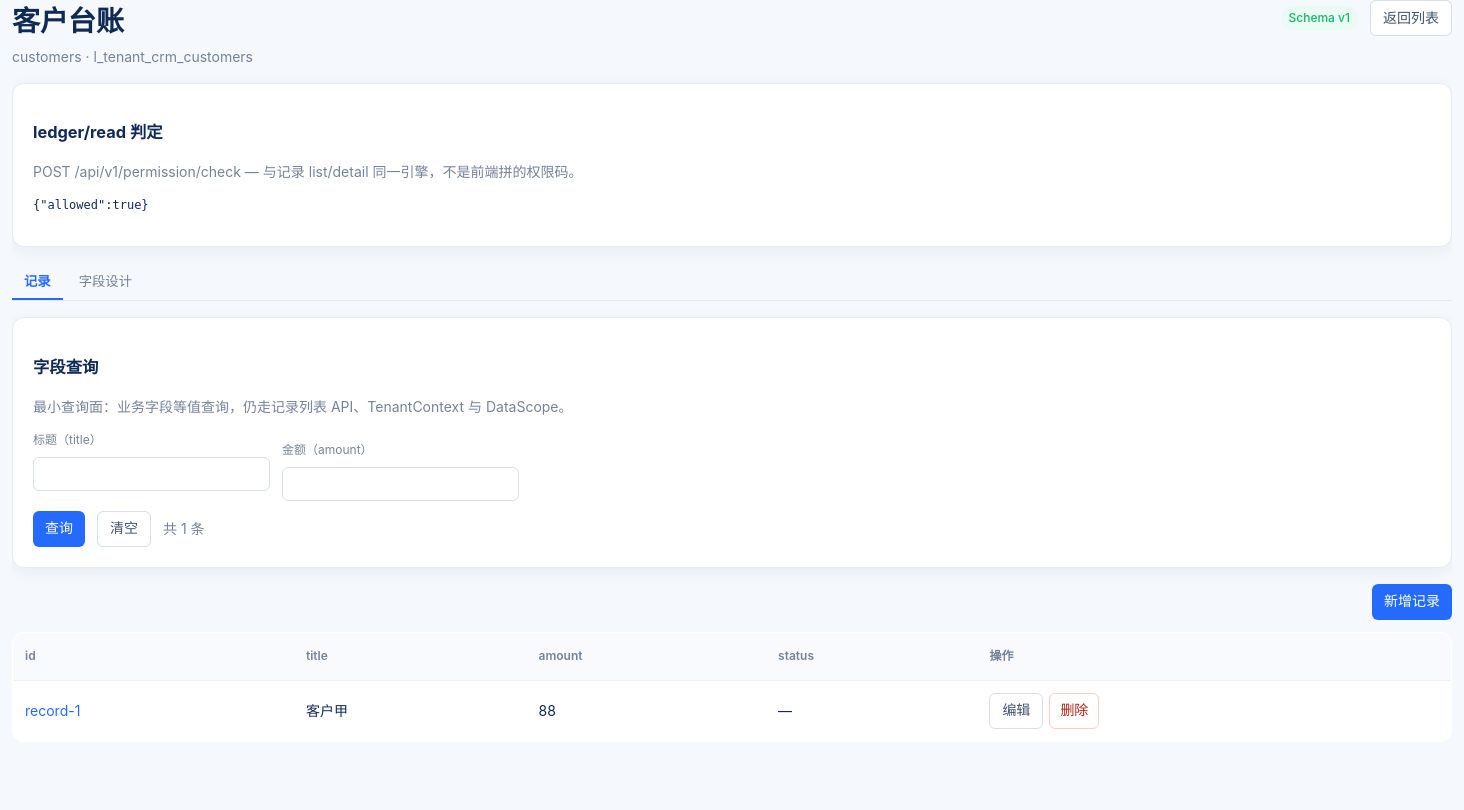
it: T3-E application and ledger CRUD › opens a tenant-scoped record detail from the list
Click the link with test id "record-detail-link".
click(53, 711)  # box [25,702,80,719]
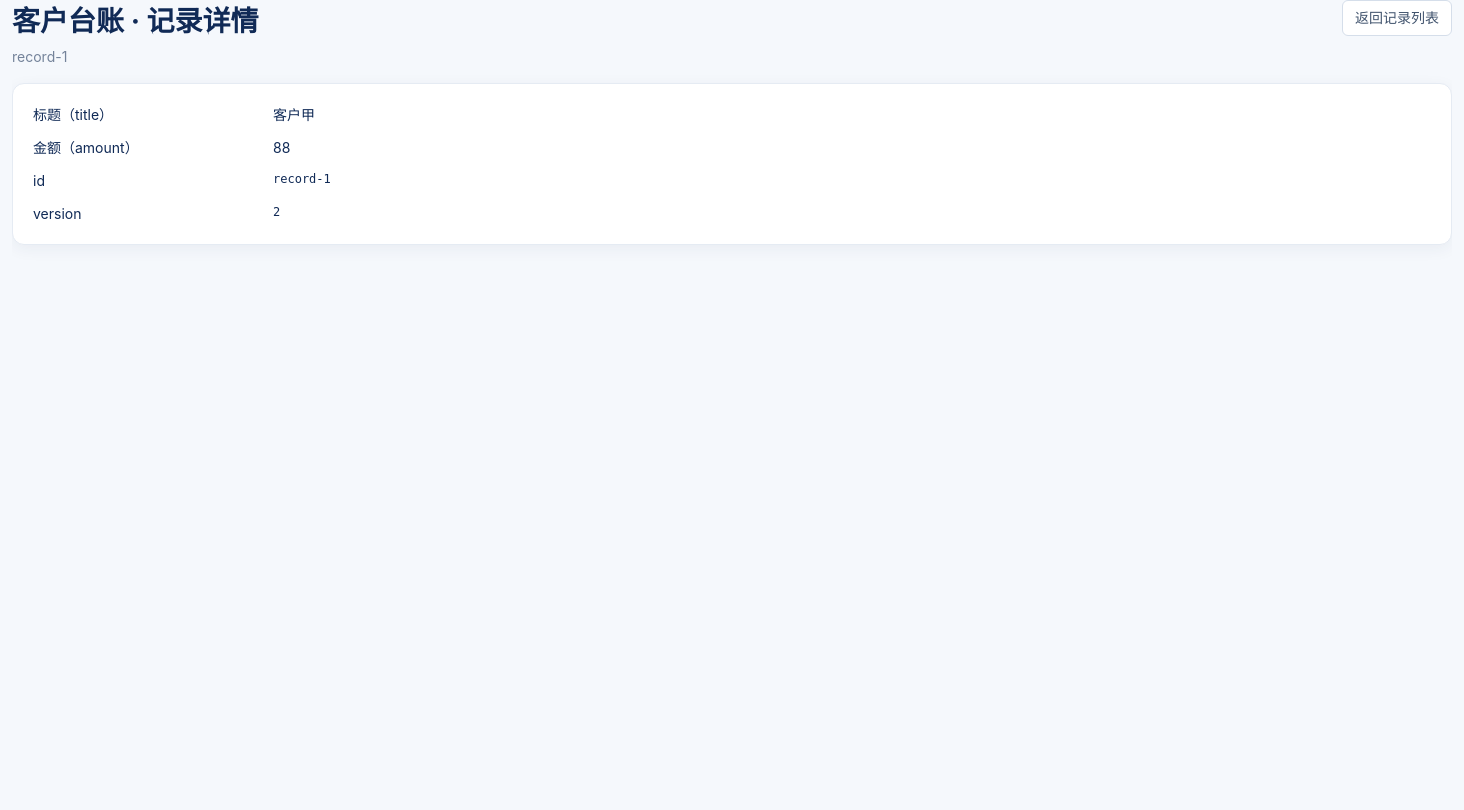
Now the element with test id "record-detail" shows "客户甲", box [273,106,315,123]
